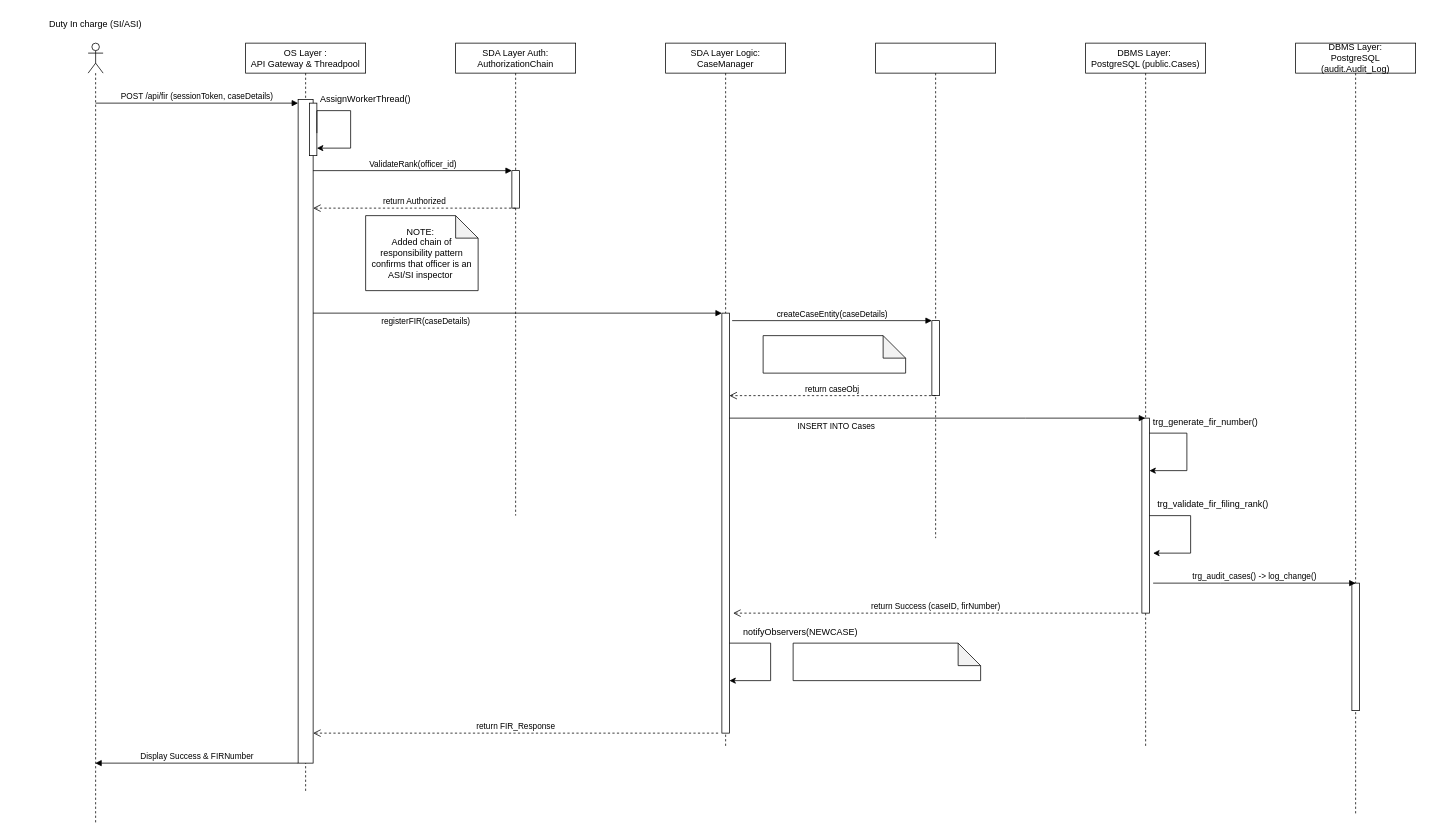
Some shapes in this 1429 by 836 pixel diagram are drawn without their labels. Each missing label, with the centre of its shape:
factory pattern standardizes Obj creation: the point at 834,354
Observer Pattern this notifies the AI pipeline that new data exists: the point at 886,661
SDA Layer Creation: CaseFactory: the point at 935,290
